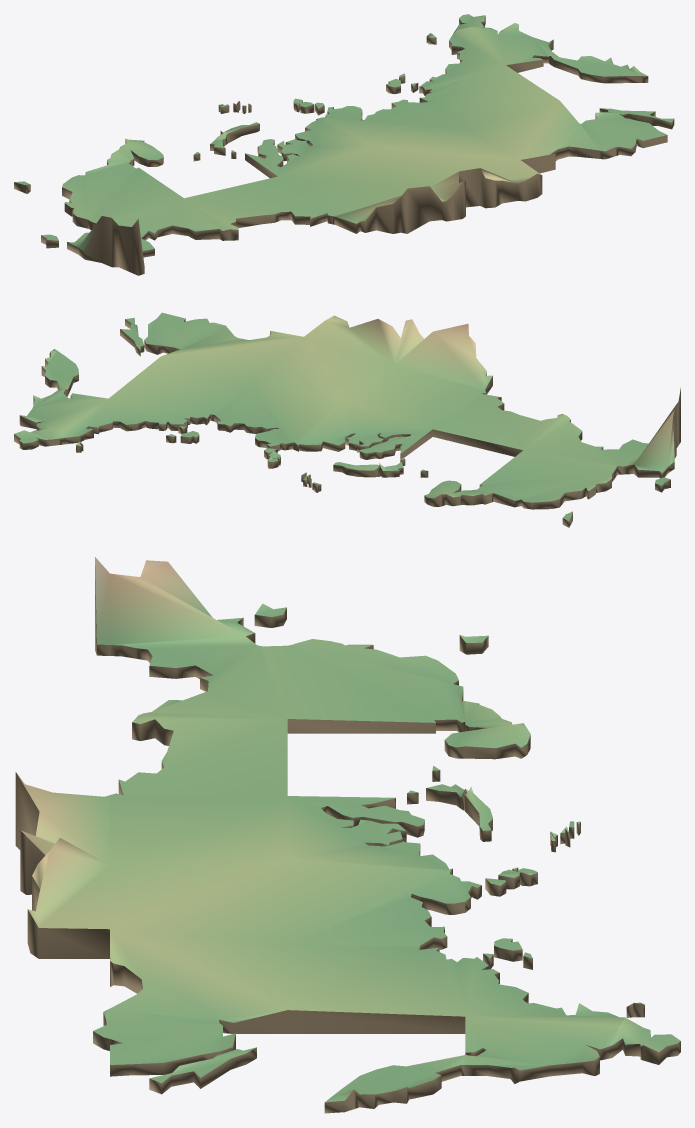
File: RUS.glb
The picture shows the model from 3 angles, top to bottom: view 1: azimuth 30°, elevation 25°; view 2: azimuth 150°, elevation 25°; view 3: azimuth 270°, elevation 25°; orthographic projection. The views are drawn at different scales.
Parts seen in each view (by area): view 1: RUS; view 2: RUS; view 3: RUS.
Boxes of the visible parts, x1=… form: RUS: x1=14, y1=14, x2=674, y2=275; RUS: x1=14, y1=312, x2=680, y2=527; RUS: x1=15, y1=557, x2=680, y2=1113.
Size of the model in its own units: 1.86 by 0.1641 by 1.06.
